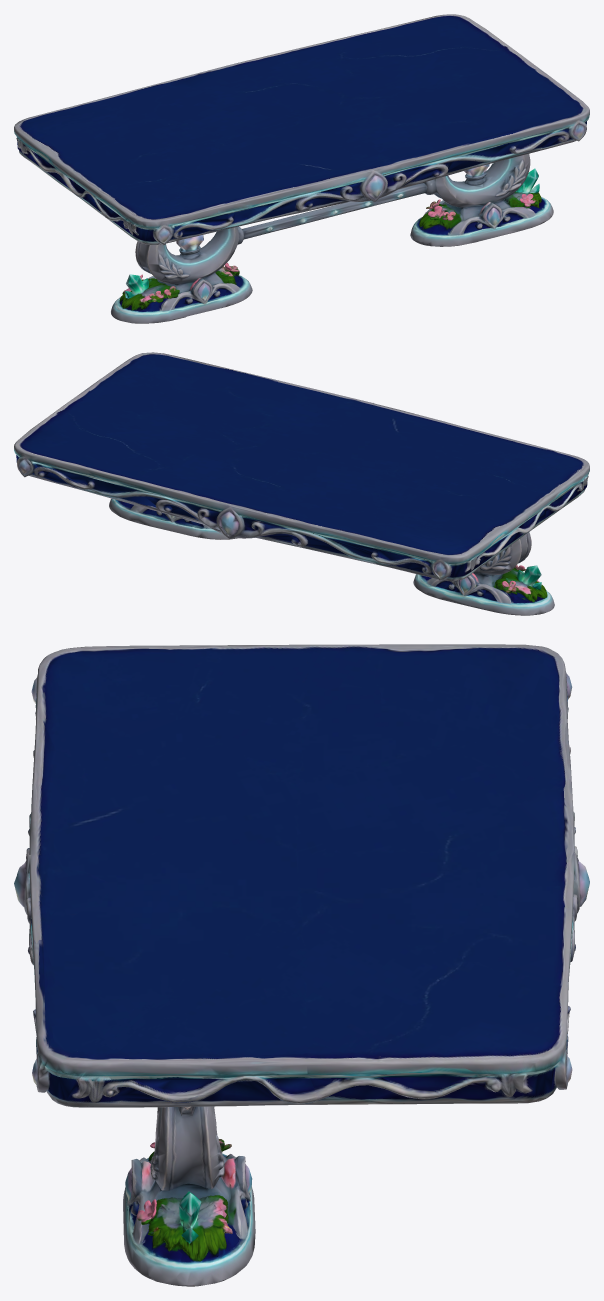
File: pp-table.medium.glb
3 views of the same model, one above another, from view 1: azimuth 30°, elevation 25°; view 2: azimuth 150°, elevation 25°; view 3: azimuth 270°, elevation 25° (orthographic). The views are drawn at different scales.
Visible parts, largest first — view 1: tripo_node_701eae7a-5640-41b6-a4e9-7cf005bb0de2; view 2: tripo_node_701eae7a-5640-41b6-a4e9-7cf005bb0de2; view 3: tripo_node_701eae7a-5640-41b6-a4e9-7cf005bb0de2.
Part boxes in pixels (x1,y1,x2,y2): tripo_node_701eae7a-5640-41b6-a4e9-7cf005bb0de2: [14, 14, 589, 323]; tripo_node_701eae7a-5640-41b6-a4e9-7cf005bb0de2: [14, 352, 589, 615]; tripo_node_701eae7a-5640-41b6-a4e9-7cf005bb0de2: [14, 644, 589, 1286].
Bounding box in the file's own units: 2.86 × 0.76 × 1.64.
Materials: 1 (1 with a texture image).
